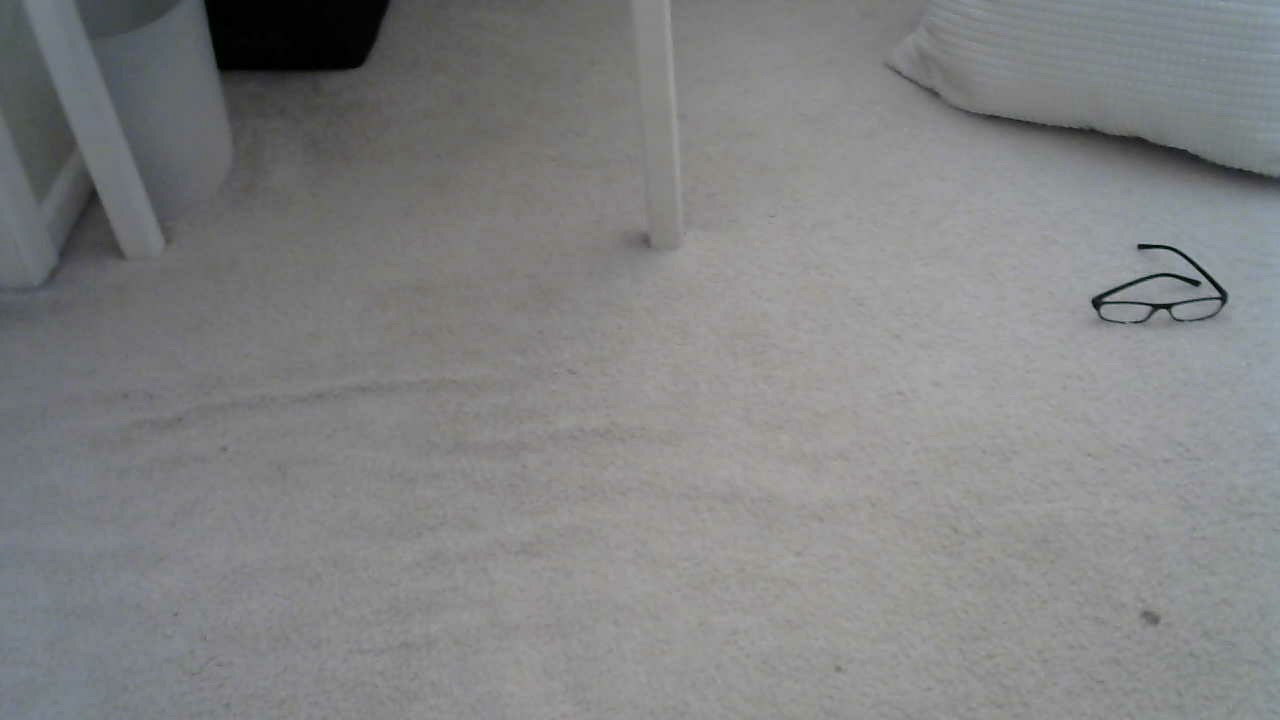Glasses: (1023, 211, 1244, 342)
